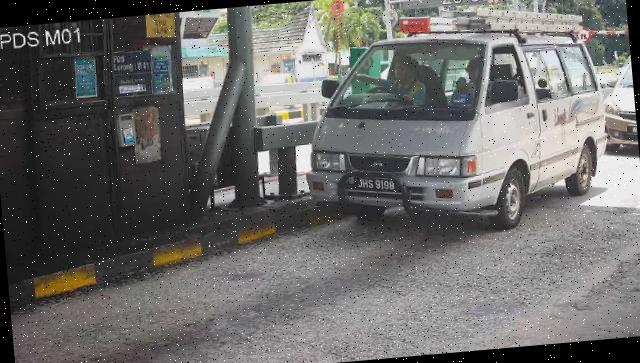License_Plate: (358, 173, 399, 195)
van: (294, 1, 614, 246)
